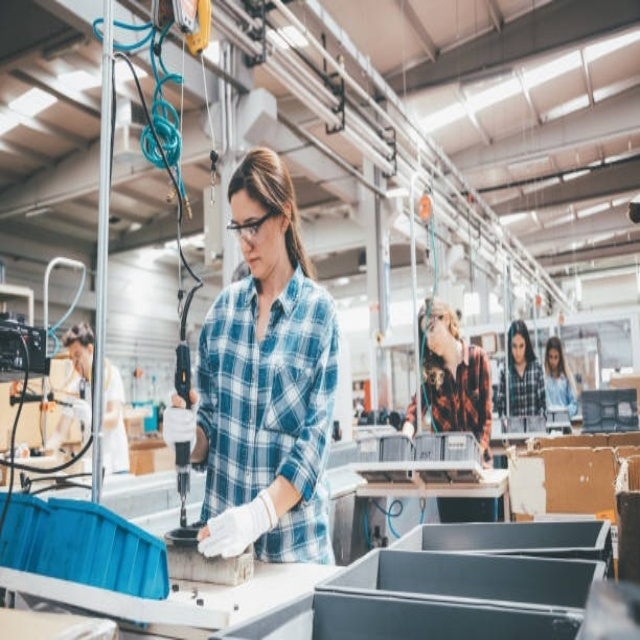Gafas: (227, 207, 276, 243), (420, 314, 448, 337)
Guantes: (193, 482, 274, 563), (160, 397, 200, 447)
Sin_mascara: (242, 246, 264, 278)
